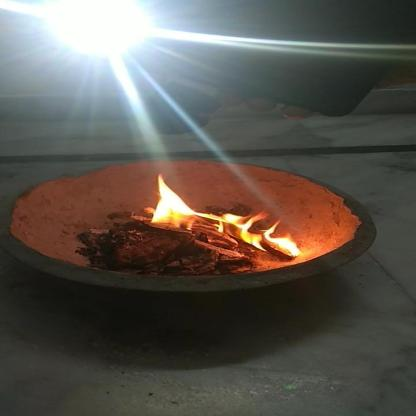fire: (146, 173, 302, 260)
